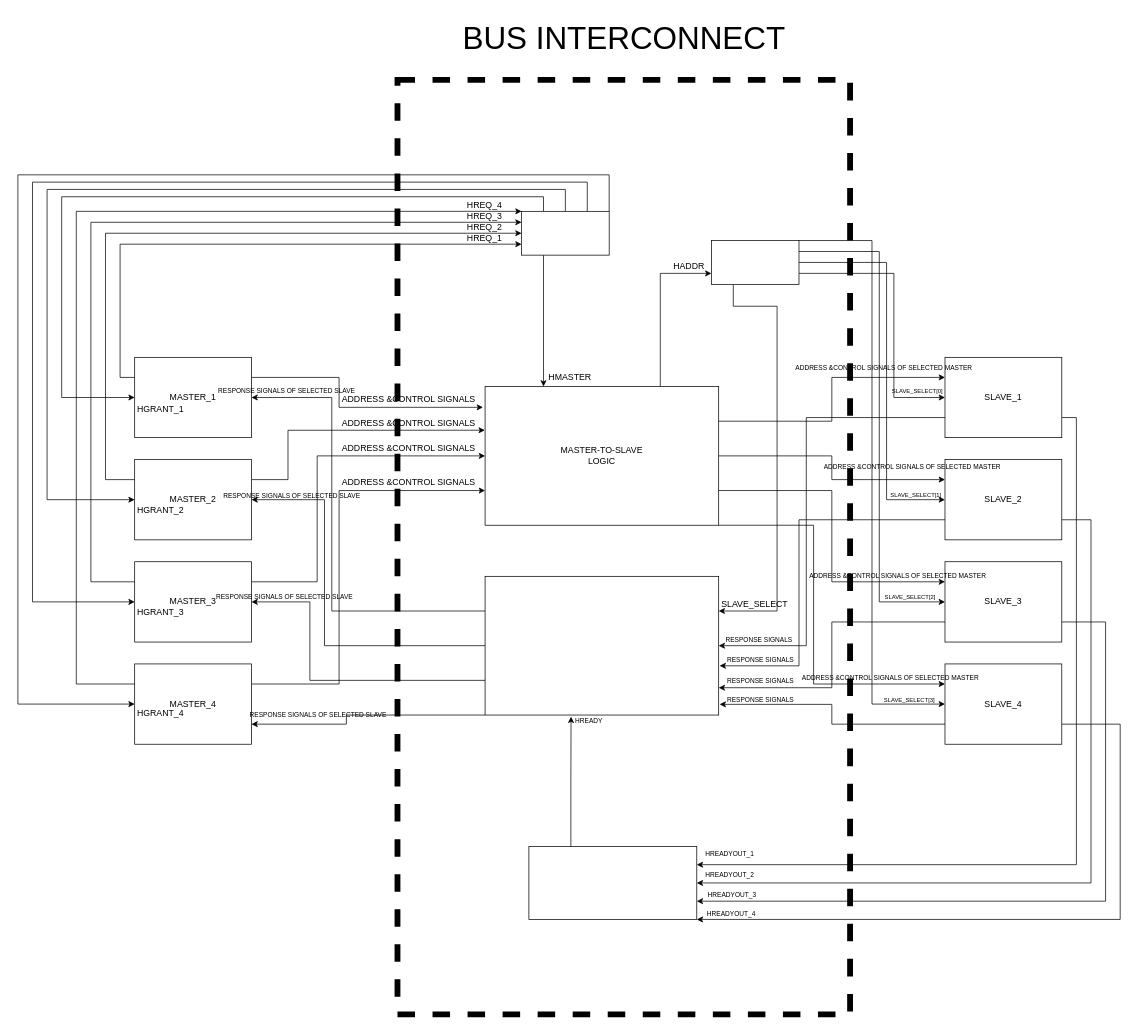
Some shapes in this 1139 by 1029 pixel diagram are drawn without their labels. The centre of each missing label's shape, as x and y in pixels:
ARBITER: (565,233)
DECODER: (755,262)
HREADY GENERATOR: (612,882)
SLAVE-TO-MASTER LOGIC: (601,645)
